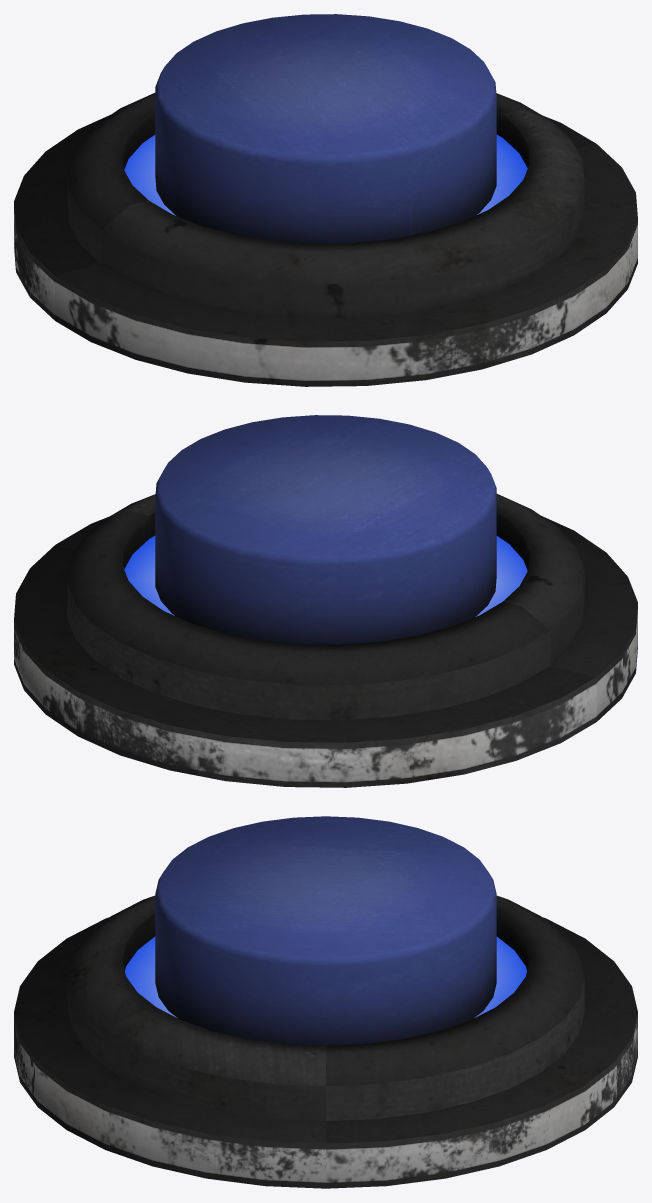
File: Button.fbx
3 views of the same model, one above another, from view 1: azimuth 30°, elevation 25°; view 2: azimuth 150°, elevation 25°; view 3: azimuth 270°, elevation 25° (orthographic).
Parts seen in each view (by area): view 1: Base, Button, Glow; view 2: Base, Button, Glow; view 3: Base, Button, Glow.
Boxes of the visible parts, x1,y1,x2,y2 form: Base: (14,93,637,386); Button: (155,14,496,243); Glow: (124,134,527,215); Base: (14,494,637,787); Button: (155,415,496,644); Glow: (124,535,527,616); Base: (14,895,637,1188); Button: (155,816,496,1045); Glow: (125,936,526,1017).
Bounding box in the file's own units: 2.41 × 0.7264 × 2.41.
